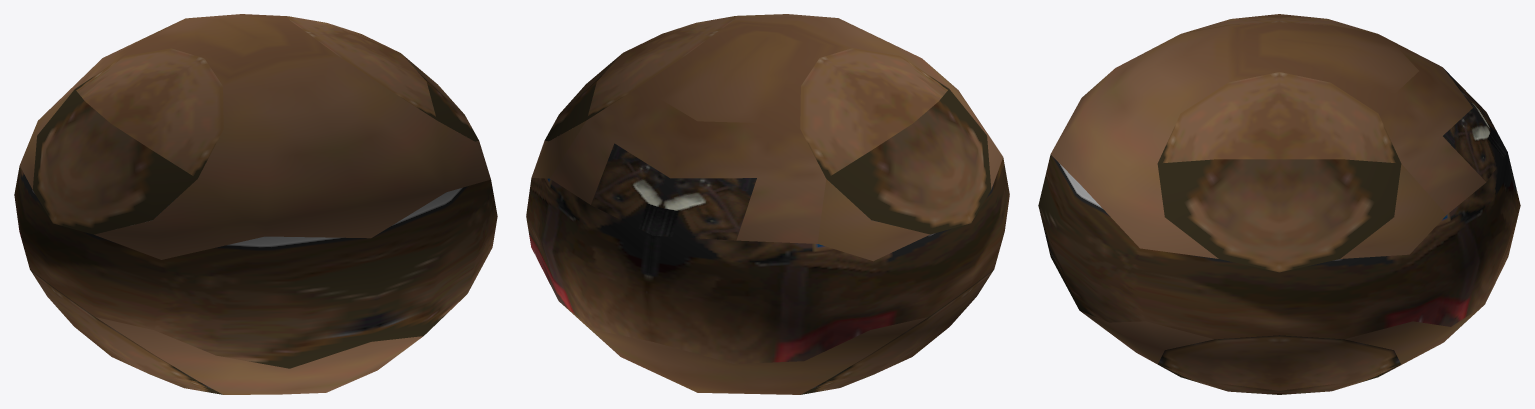
The model's file is del.ico.obj.
3 renders of one model, left to right at view 1: azimuth 30°, elevation 25°; view 2: azimuth 150°, elevation 25°; view 3: azimuth 270°, elevation 25°, orthographic.
Size of the model in its own units: 2.49 by 1.89 by 2.52.
